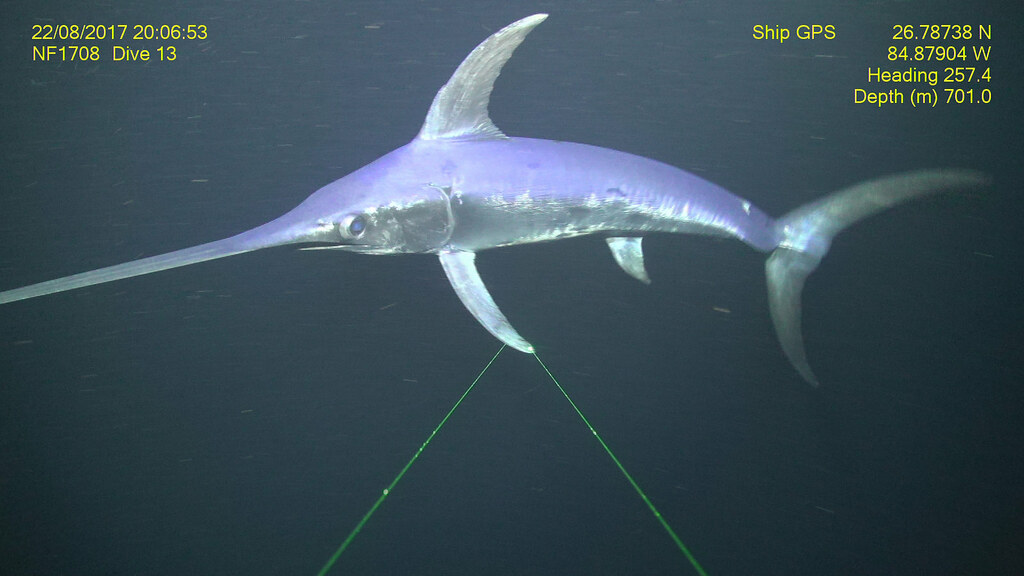swordfish: (12, 17, 1001, 419)
